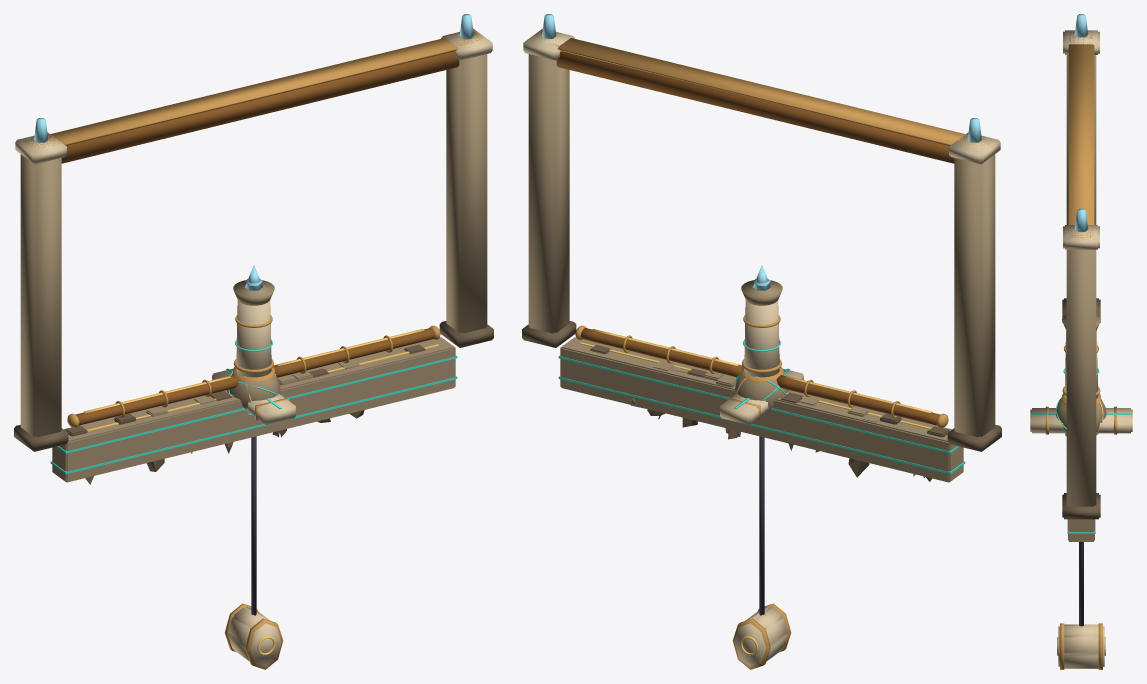
File: props-f39ca862.glb
3 renders of one model, left to right at view 1: azimuth 30°, elevation 25°; view 2: azimuth 150°, elevation 25°; view 3: azimuth 270°, elevation 25°, orthographic. The views are drawn at different scales.
Parts seen in each view (by area): view 1: ram_arch, plinth, mill_beam, ram, mill_pillar, chasm_edge, chasm_beam, boulder; view 2: ram_arch, plinth, mill_beam, ram, mill_pillar, chasm_edge, chasm_beam, boulder; view 3: ram_arch, ram, chasm_beam, plinth, boulder, mill_pillar.
Part boxes in pixels (x1,y1,x2,y2): ram_arch: (14,14,493,451); plinth: (50,337,457,482); mill_beam: (67,325,440,427); ram: (224,436,283,669); mill_pillar: (233,265,274,377); chasm_edge: (65,342,440,484); chasm_beam: (212,368,295,425); boulder: (226,371,280,415); ram_arch: (522,14,1001,451); plinth: (558,337,965,482); mill_beam: (575,325,948,427); ram: (732,436,791,669); mill_pillar: (741,265,782,377); chasm_edge: (575,342,949,481); chasm_beam: (720,368,803,425); boulder: (734,369,788,415); ram_arch: (1062,14,1100,519); ram: (1057,542,1105,669); chasm_beam: (1030,406,1132,434); plinth: (1067,519,1095,541); boulder: (1055,397,1106,436); mill_pillar: (1062,314,1100,398).
Size of the model in its own units: 11.7 by 14.41 by 2.4.
Materials: 1 (1 with a texture image).
